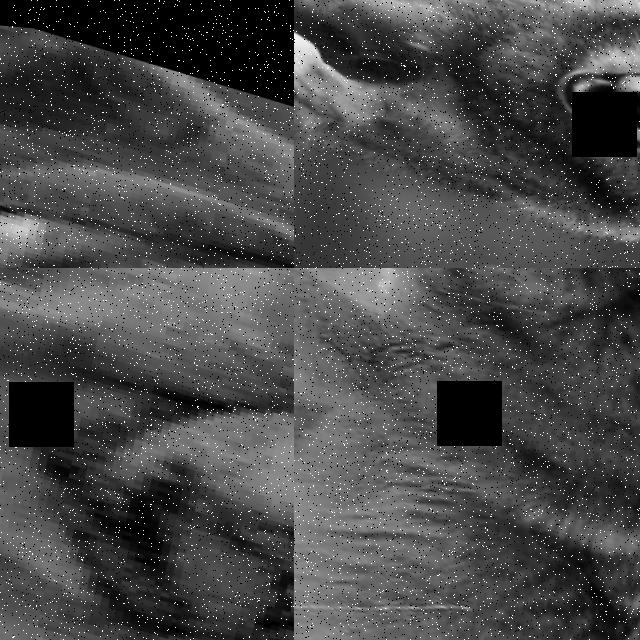dog: (0, 0, 294, 268)
wolf: (294, 268, 640, 640), (0, 268, 294, 640), (294, 0, 640, 268), (0, 268, 294, 526), (0, 488, 294, 640)
